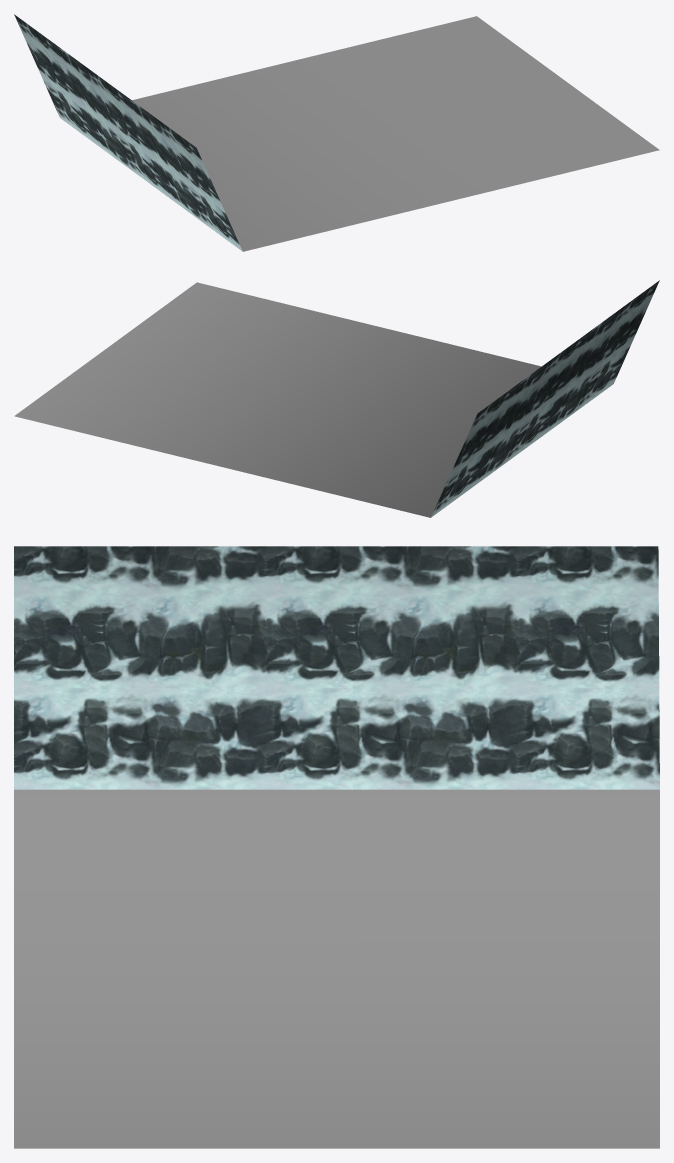
Rendered from terrain_section05_guanka05_03.FBX.
3 views of the same model, one above another, from view 1: azimuth 30°, elevation 25°; view 2: azimuth 150°, elevation 25°; view 3: azimuth 270°, elevation 25° (orthographic). The views are drawn at different scales.
Parts seen in each view (by area): view 1: terrain_section05_guanka05_03; view 2: terrain_section05_guanka05_03; view 3: terrain_section05_guanka05_03.
Part boxes in pixels (x1,y1,x2,y2): terrain_section05_guanka05_03: (14,14,659,251); terrain_section05_guanka05_03: (14,280,659,517); terrain_section05_guanka05_03: (14,546,659,1148).
Size of the model in its own units: 194 by 46.09 by 133.
